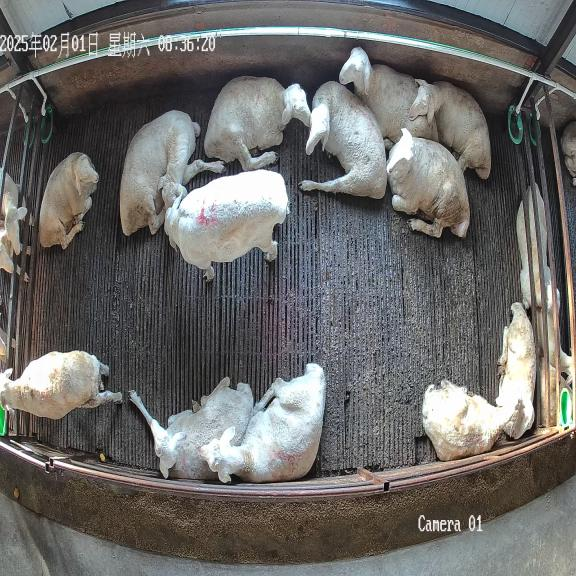lying: (200, 363, 325, 483), (120, 110, 225, 235), (130, 377, 254, 480), (300, 81, 387, 198), (204, 76, 310, 170), (339, 47, 439, 144), (387, 128, 470, 237), (409, 79, 491, 179), (422, 380, 522, 460), (39, 152, 99, 249), (496, 302, 536, 439)
stand: (165, 170, 288, 280), (0, 350, 122, 419)
